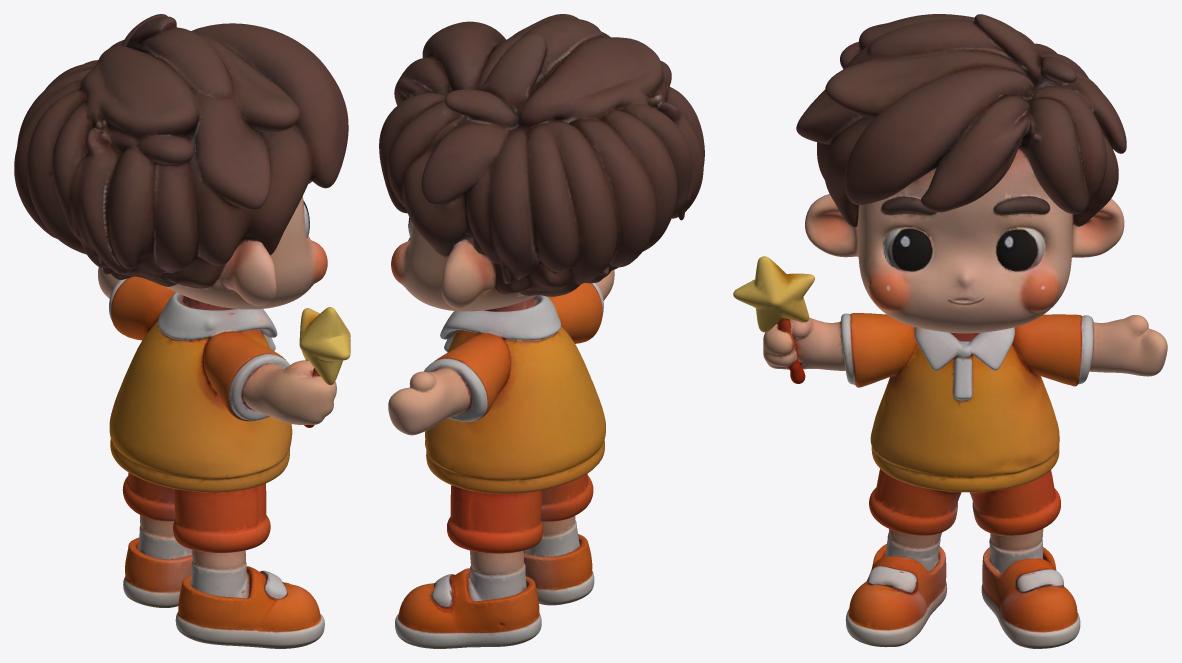
Rendered from character-boy-star.glb.
3 renders of one model, left to right at view 1: azimuth 30°, elevation 25°; view 2: azimuth 150°, elevation 25°; view 3: azimuth 270°, elevation 25°, orthographic. The views are drawn at different scales.
Visible parts, largest first — view 1: tripo_node_9914a078-d514-46ba-a968-aee33fcc4ffb; view 2: tripo_node_9914a078-d514-46ba-a968-aee33fcc4ffb; view 3: tripo_node_9914a078-d514-46ba-a968-aee33fcc4ffb.
Part boxes in pixels (box(x1,y1,x2,y2)): tripo_node_9914a078-d514-46ba-a968-aee33fcc4ffb: box(14, 14, 350, 648); tripo_node_9914a078-d514-46ba-a968-aee33fcc4ffb: box(379, 14, 704, 648); tripo_node_9914a078-d514-46ba-a968-aee33fcc4ffb: box(733, 14, 1167, 648).
Size of the model in its own units: 0.4941 by 0.9999 by 0.6679.
Materials: 1 (1 with a texture image).
